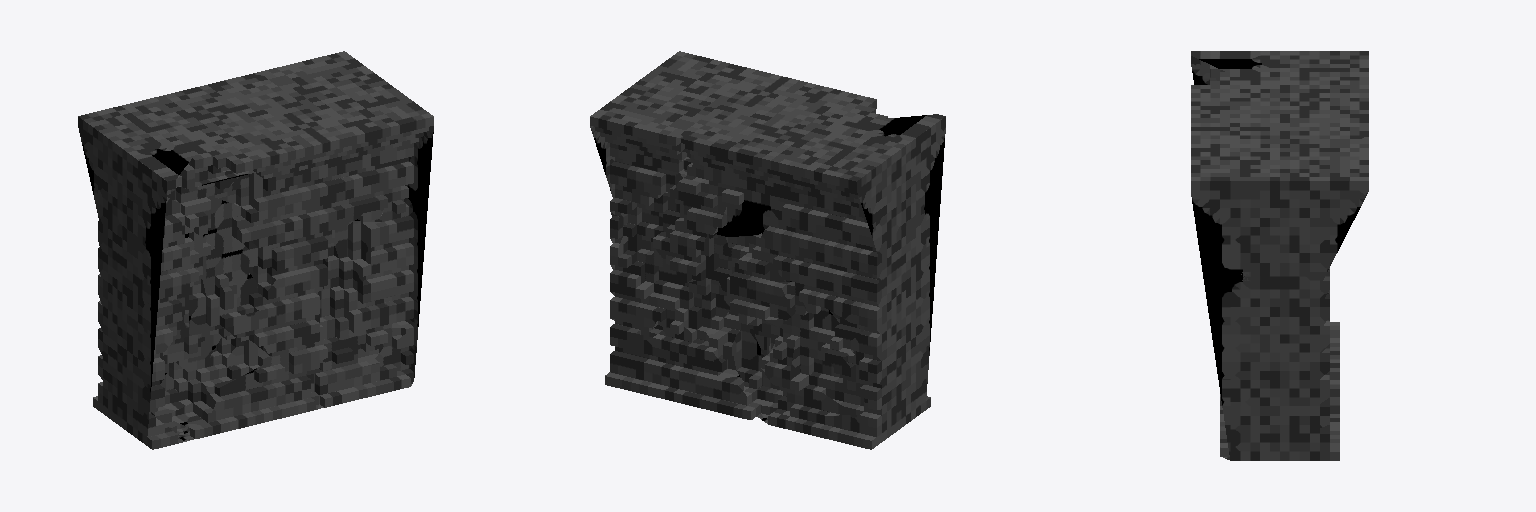
3 renders of one model, left to right at view 1: azimuth 30°, elevation 25°; view 2: azimuth 150°, elevation 25°; view 3: azimuth 270°, elevation 25°, orthographic.
Parts seen in each view (by area): view 1: Wall_In_SemiBrick_Broken_Wall_In_SemiBrick_Broken.001; view 2: Wall_In_SemiBrick_Broken_Wall_In_SemiBrick_Broken.001; view 3: Wall_In_SemiBrick_Broken_Wall_In_SemiBrick_Broken.001.
Part boxes in pixels (x1,y1,x2,y2): Wall_In_SemiBrick_Broken_Wall_In_SemiBrick_Broken.001: (78, 51, 433, 449); Wall_In_SemiBrick_Broken_Wall_In_SemiBrick_Broken.001: (590, 51, 945, 449); Wall_In_SemiBrick_Broken_Wall_In_SemiBrick_Broken.001: (1191, 51, 1368, 460).
Bounding box in the file's own units: 3.1 × 3.1 × 1.8.
1 materials, 1 textured.